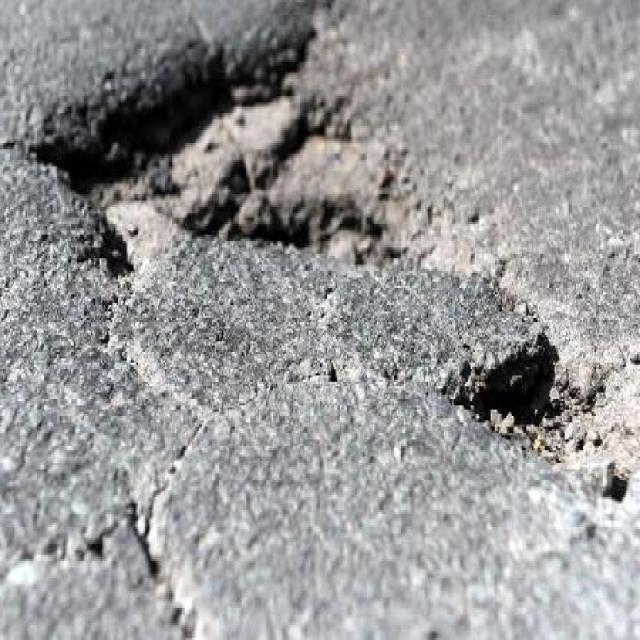pothole: (26, 2, 456, 292), (444, 317, 640, 499)
